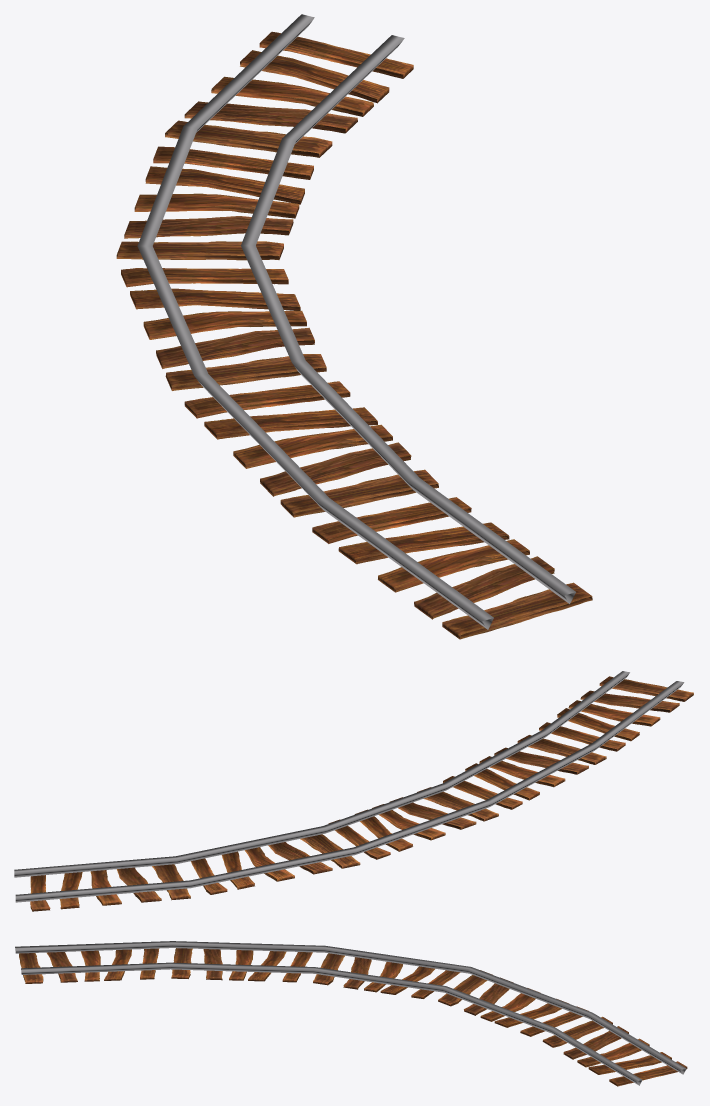
File: SWORDLIGHT20_TRACK6.fbx
3 views of the same model, one above another, from view 1: azimuth 30°, elevation 25°; view 2: azimuth 150°, elevation 25°; view 3: azimuth 270°, elevation 25° (orthographic). The views are drawn at different scales.
Parts seen in each view (by area): view 1: SWORDLIGHT20_TRACK6; view 2: SWORDLIGHT20_TRACK6; view 3: SWORDLIGHT20_TRACK6.
Boxes of the visible parts, x1,y1,x2,y2 form: SWORDLIGHT20_TRACK6: (116, 14, 592, 639); SWORDLIGHT20_TRACK6: (14, 671, 693, 911); SWORDLIGHT20_TRACK6: (15, 941, 687, 1086).
Bounding box in the file's own units: 67537 × 3807 × 137262.
Materials: 2 (2 with a texture image).
